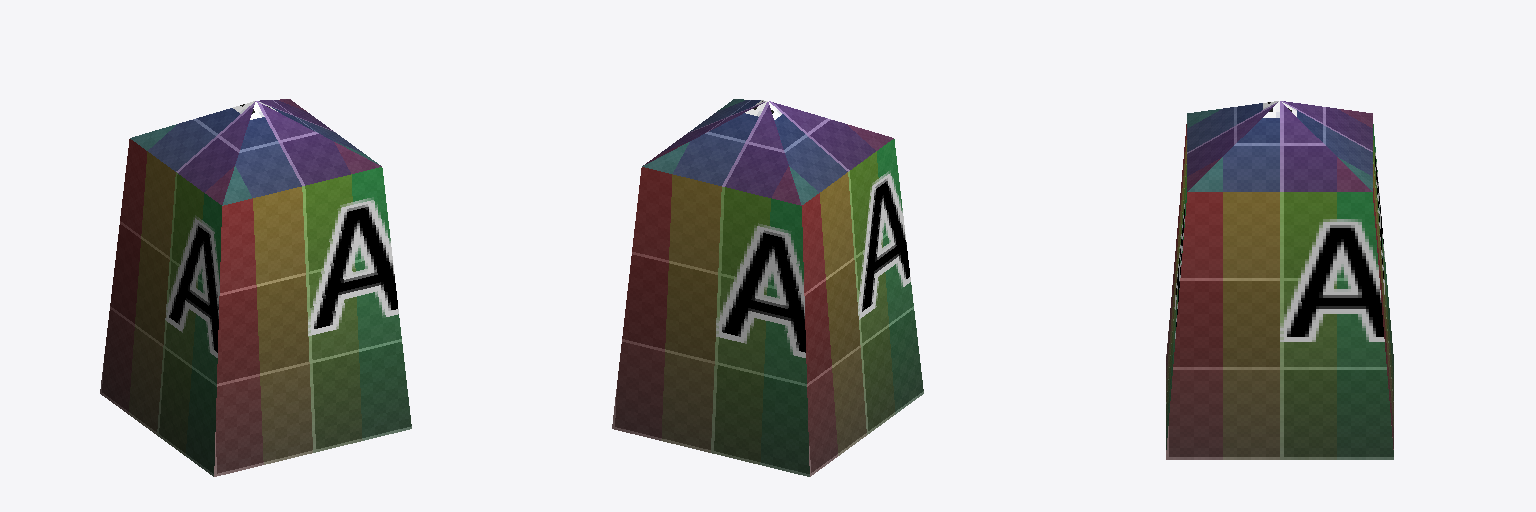
3 renders of one model, left to right at view 1: azimuth 30°, elevation 25°; view 2: azimuth 150°, elevation 25°; view 3: azimuth 270°, elevation 25°, orthographic.
Parts seen in each view (by area): view 1: Cube; view 2: Cube; view 3: Cube.
Boxes of the visible parts, x1,y1,x2,y2 form: Cube: [100, 99, 411, 476]; Cube: [612, 99, 923, 476]; Cube: [1166, 101, 1393, 459].
Bounding box in the file's own units: 2 × 3 × 2.
Materials: 1 (1 with a texture image).